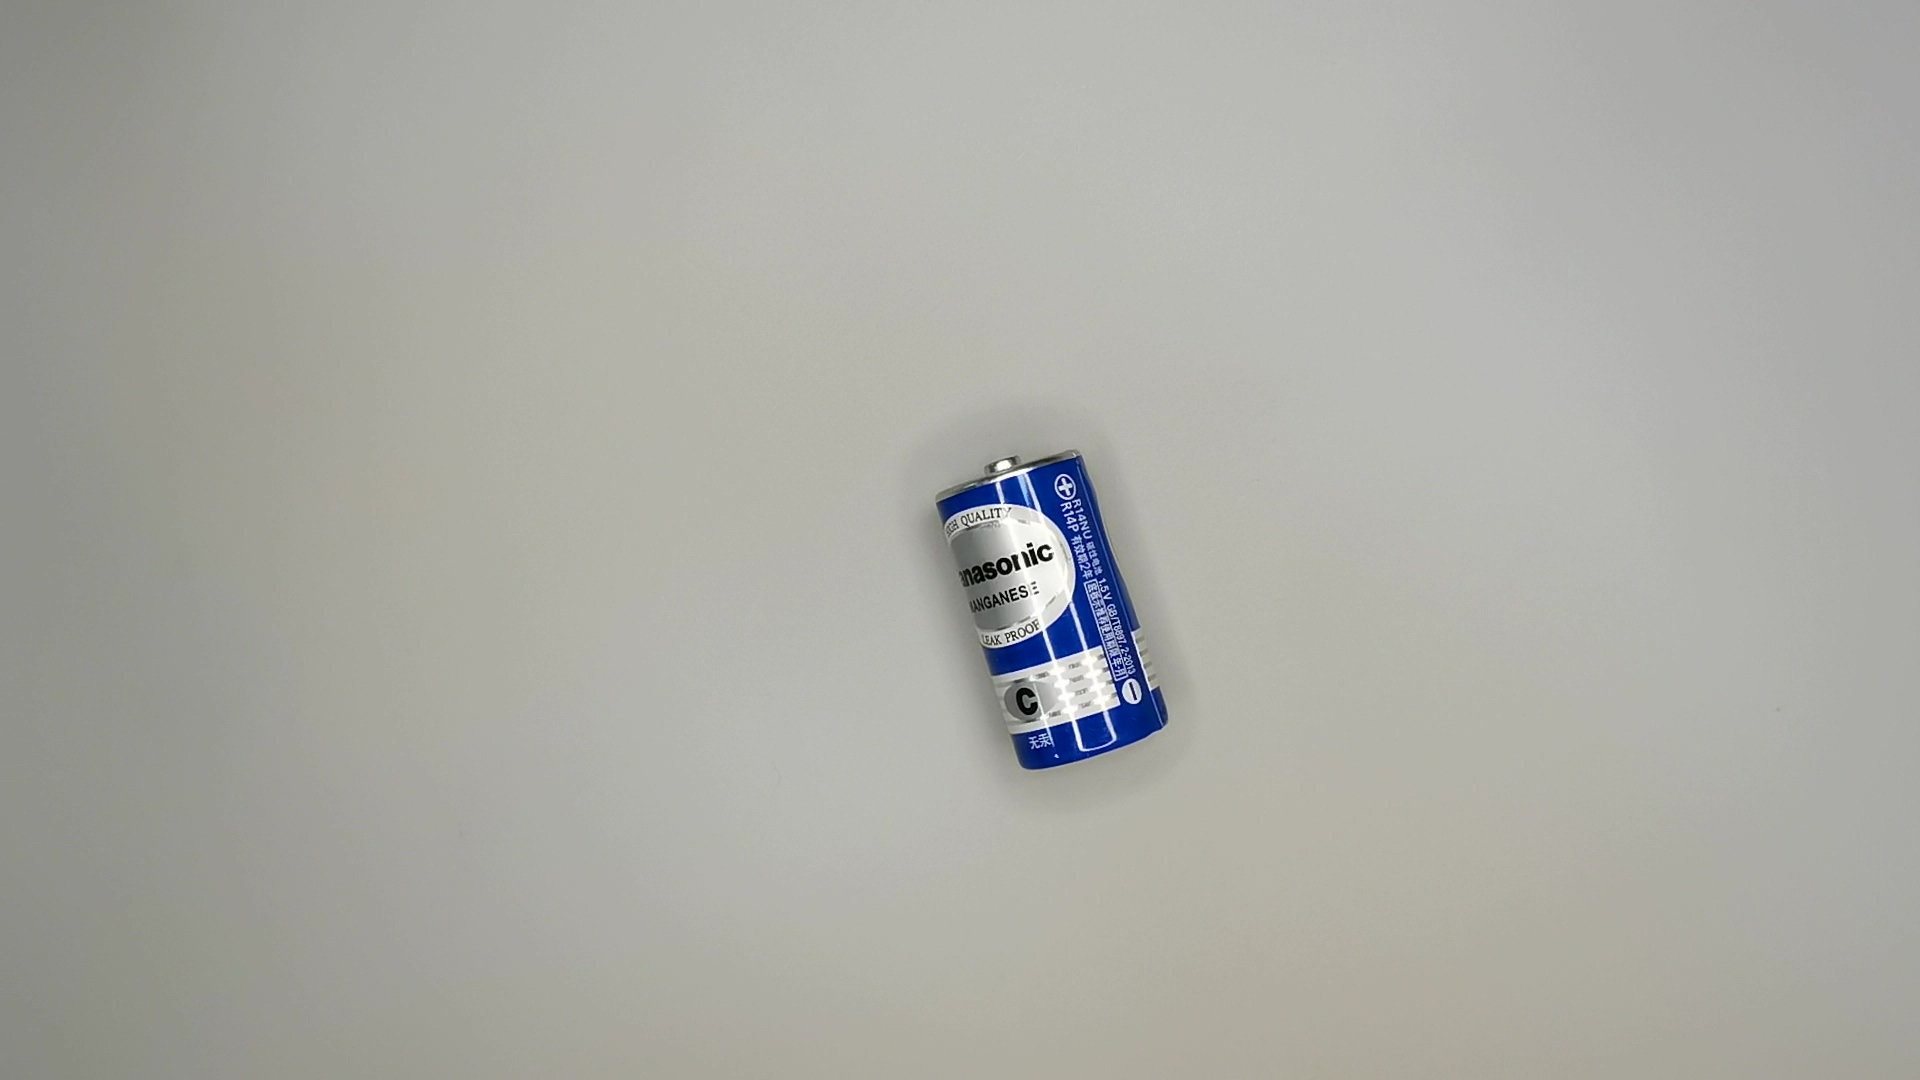battery: (924, 444, 1178, 775)
